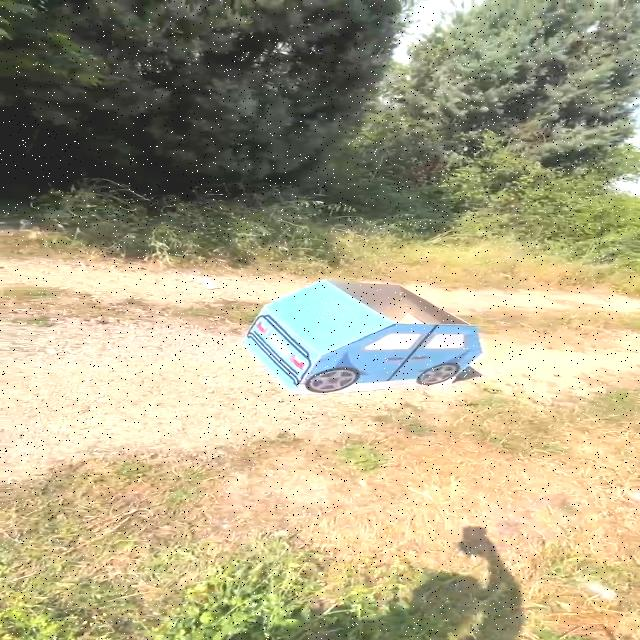blue_car: (217, 269, 505, 405)
